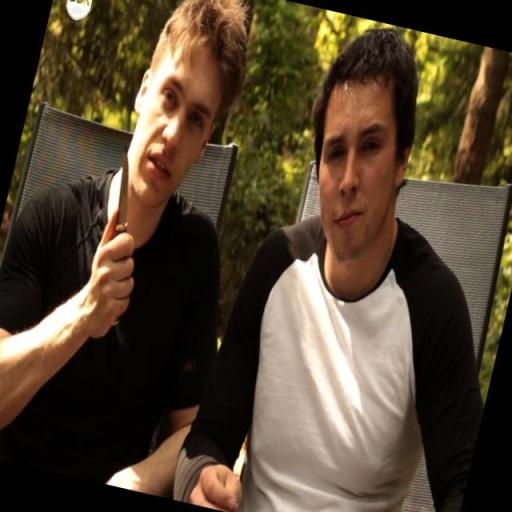knife: (81, 146, 158, 337)
